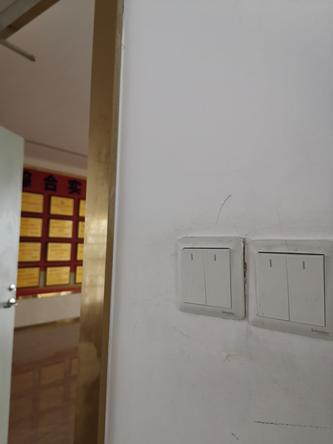switch: (282, 250, 330, 329), (252, 247, 291, 326), (199, 245, 235, 309), (175, 244, 209, 306)
